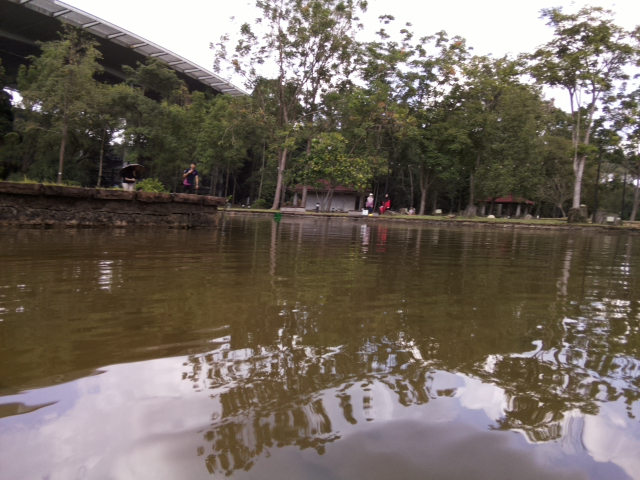obstacle: (272, 212, 282, 221)
